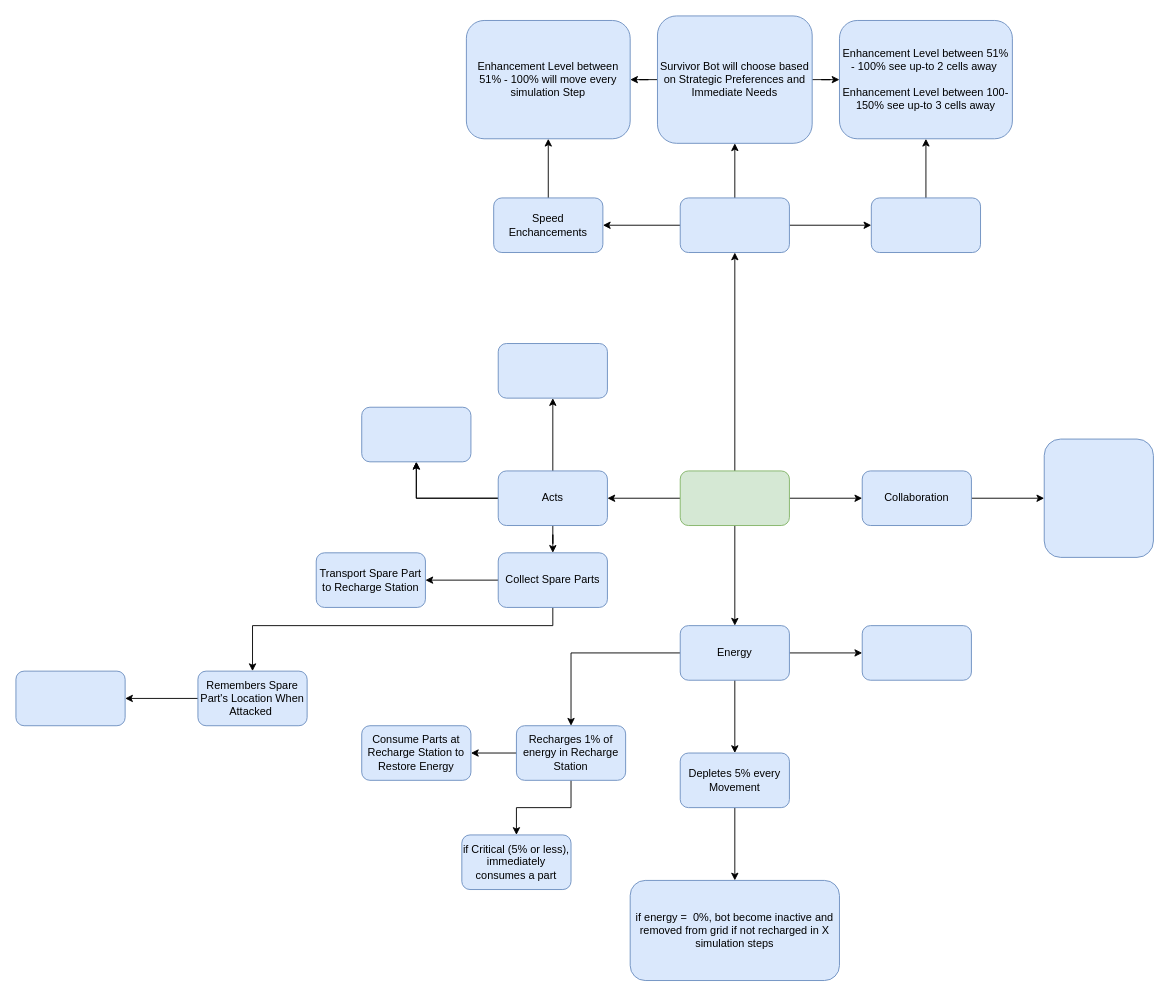
Some shapes in this 1169 by 996 pixel diagram are drawn without their labels. Each missing label, with the centre of its shape:
Ability Enchancements: (x=734, y=225)
Detect Nearby Enemies: (x=416, y=434)
If survived go back to collect if enough energy or let a bot nearby know: (x=70, y=698)
Move to nearby Adjacent Cells: (x=552, y=370)
Small Part Restores 1% per Simulation Step: (x=916, y=652)
Survivor Bots: (x=734, y=498)
Vision Enchancements: (x=925, y=225)
Work Together to reach further Distance e.g share batteries to travel further?: (x=1098, y=497)
